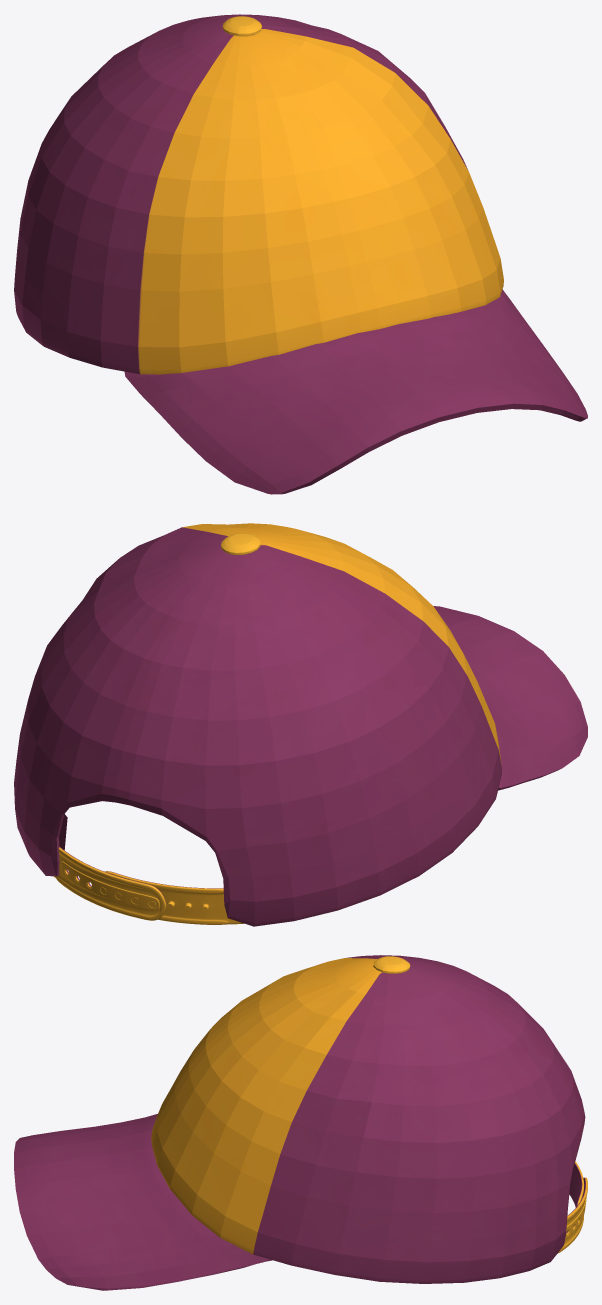
The model's file is BaseballHat_Girl.fbx.
3 views of the same model, one above another, from view 1: azimuth 30°, elevation 25°; view 2: azimuth 150°, elevation 25°; view 3: azimuth 270°, elevation 25° (orthographic). The views are drawn at different scales.
Parts seen in each view (by area): view 1: Baseball_cap; view 2: Baseball_cap; view 3: Baseball_cap.
Boxes of the visible parts, x1,y1,x2,y2 form: Baseball_cap: [14, 14, 587, 494]; Baseball_cap: [14, 523, 587, 926]; Baseball_cap: [14, 955, 587, 1290].
Bounding box in the file's own units: 61.47 × 42.9 × 85.41.
